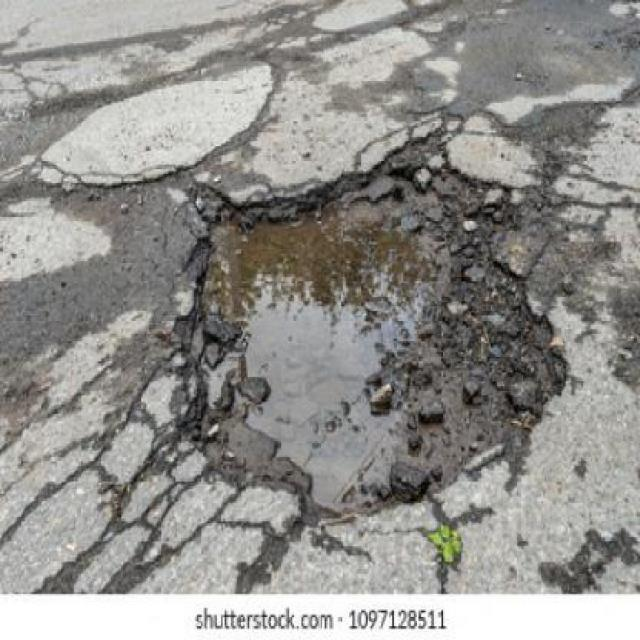Buraco: (160, 128, 573, 543)
